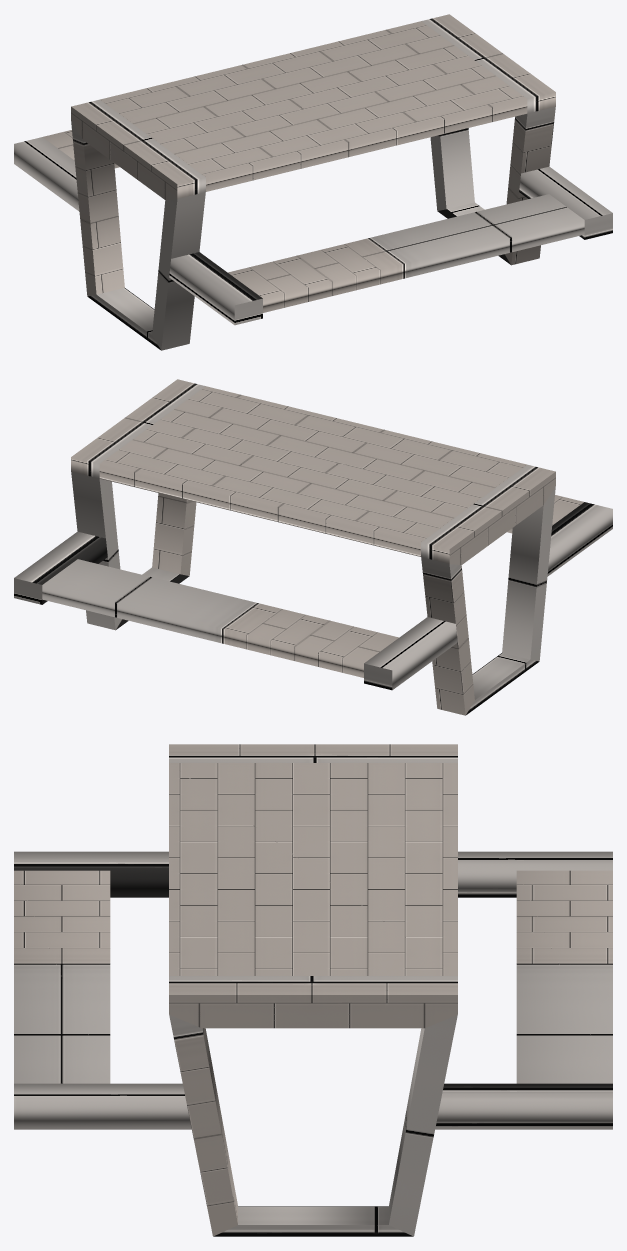
The model's file is PicnicTable_1_V1.fbx.
3 renders of one model, top to bottom at view 1: azimuth 30°, elevation 25°; view 2: azimuth 150°, elevation 25°; view 3: azimuth 270°, elevation 25°, orthographic. The views are drawn at different scales.
Visible parts, largest first — view 1: PicnicTable_1_V1; view 2: PicnicTable_1_V1; view 3: PicnicTable_1_V1.
Part boxes in pixels (left/top/right/bottom): PicnicTable_1_V1: left=14, top=14, right=612, bottom=350; PicnicTable_1_V1: left=14, top=379, right=612, bottom=715; PicnicTable_1_V1: left=14, top=744, right=612, bottom=1236.
Bounding box in the file's own units: 200 × 90 × 202.
